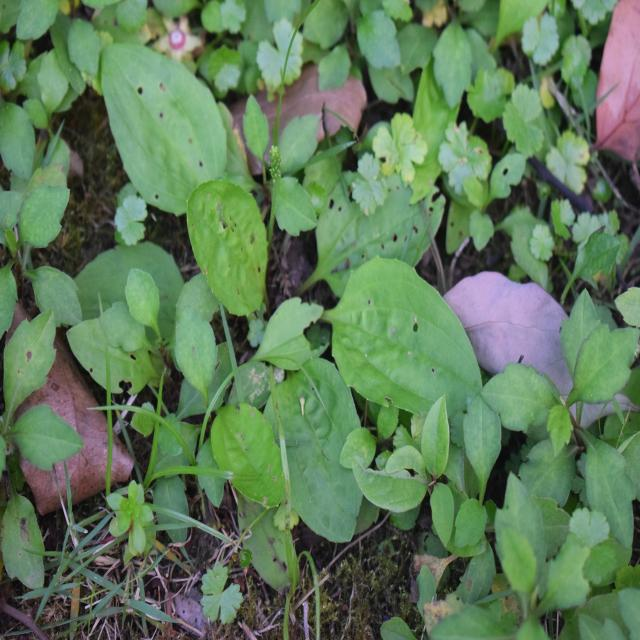plantain: (144, 137, 451, 460)
